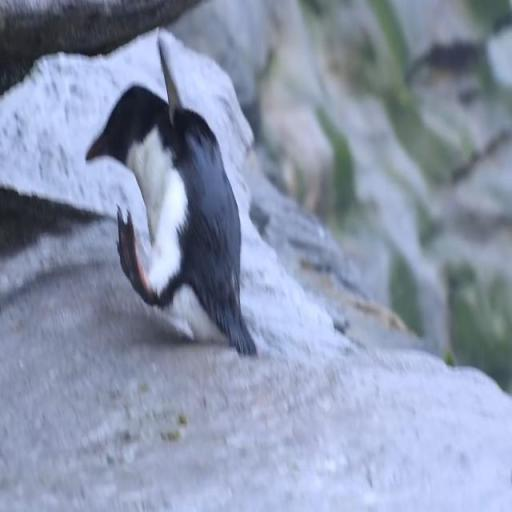penguins: (74, 20, 287, 384)
